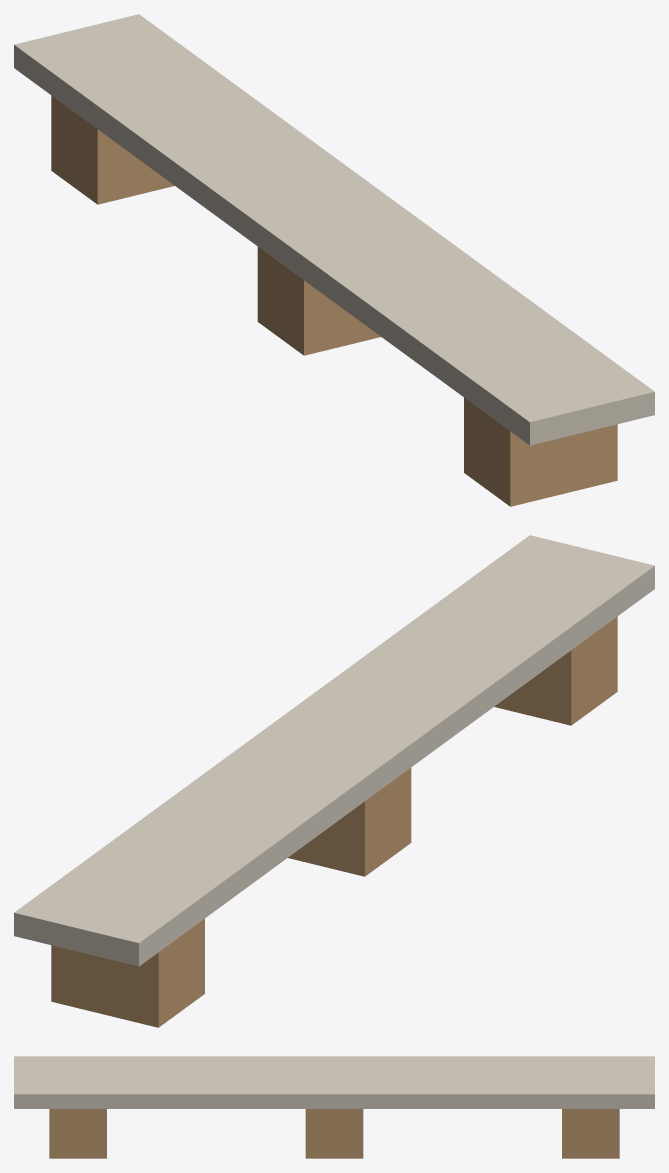
File: bench.glb
3 renders of one model, top to bottom at view 1: azimuth 30°, elevation 25°; view 2: azimuth 150°, elevation 25°; view 3: azimuth 270°, elevation 25°, orthographic. The views are drawn at different scales.
Parts seen in each view (by area): view 1: bench; view 2: bench; view 3: bench.
Boxes of the visible parts, x1,y1,x2,y2 form: bench: (14, 14, 654, 506); bench: (14, 535, 654, 1027); bench: (14, 1056, 654, 1158).
Bounding box in the file's own units: 0.56 × 0.46 × 4.
